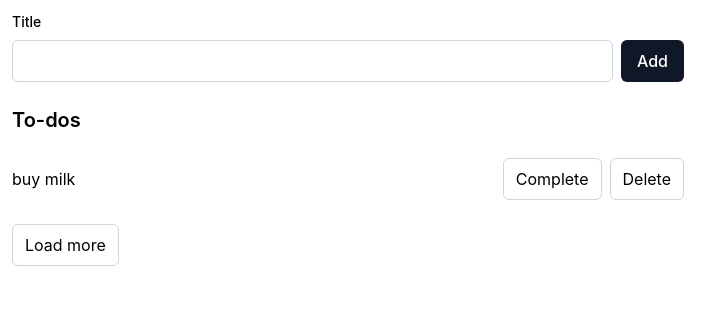
Test case: TodoItem › clears a stale notice when Load more starts
Click the button with aria-label "Delete buy milk": (647, 179) [610,158,684,200]
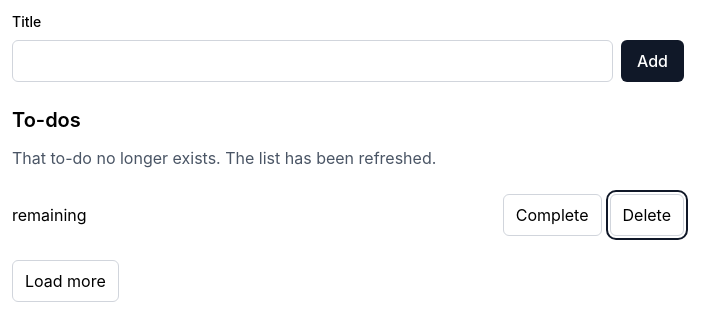
Result: the message shows "The list has been refreshed." at [12,148,436,168]
Click the button "Load more": (65, 281) [12,260,119,302]
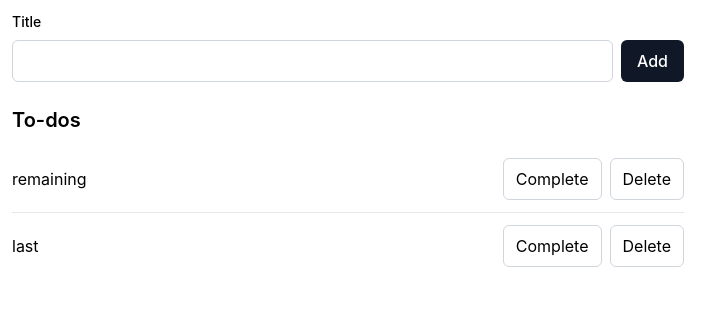
Result: the text "last" is shown at [12,236,38,256]
